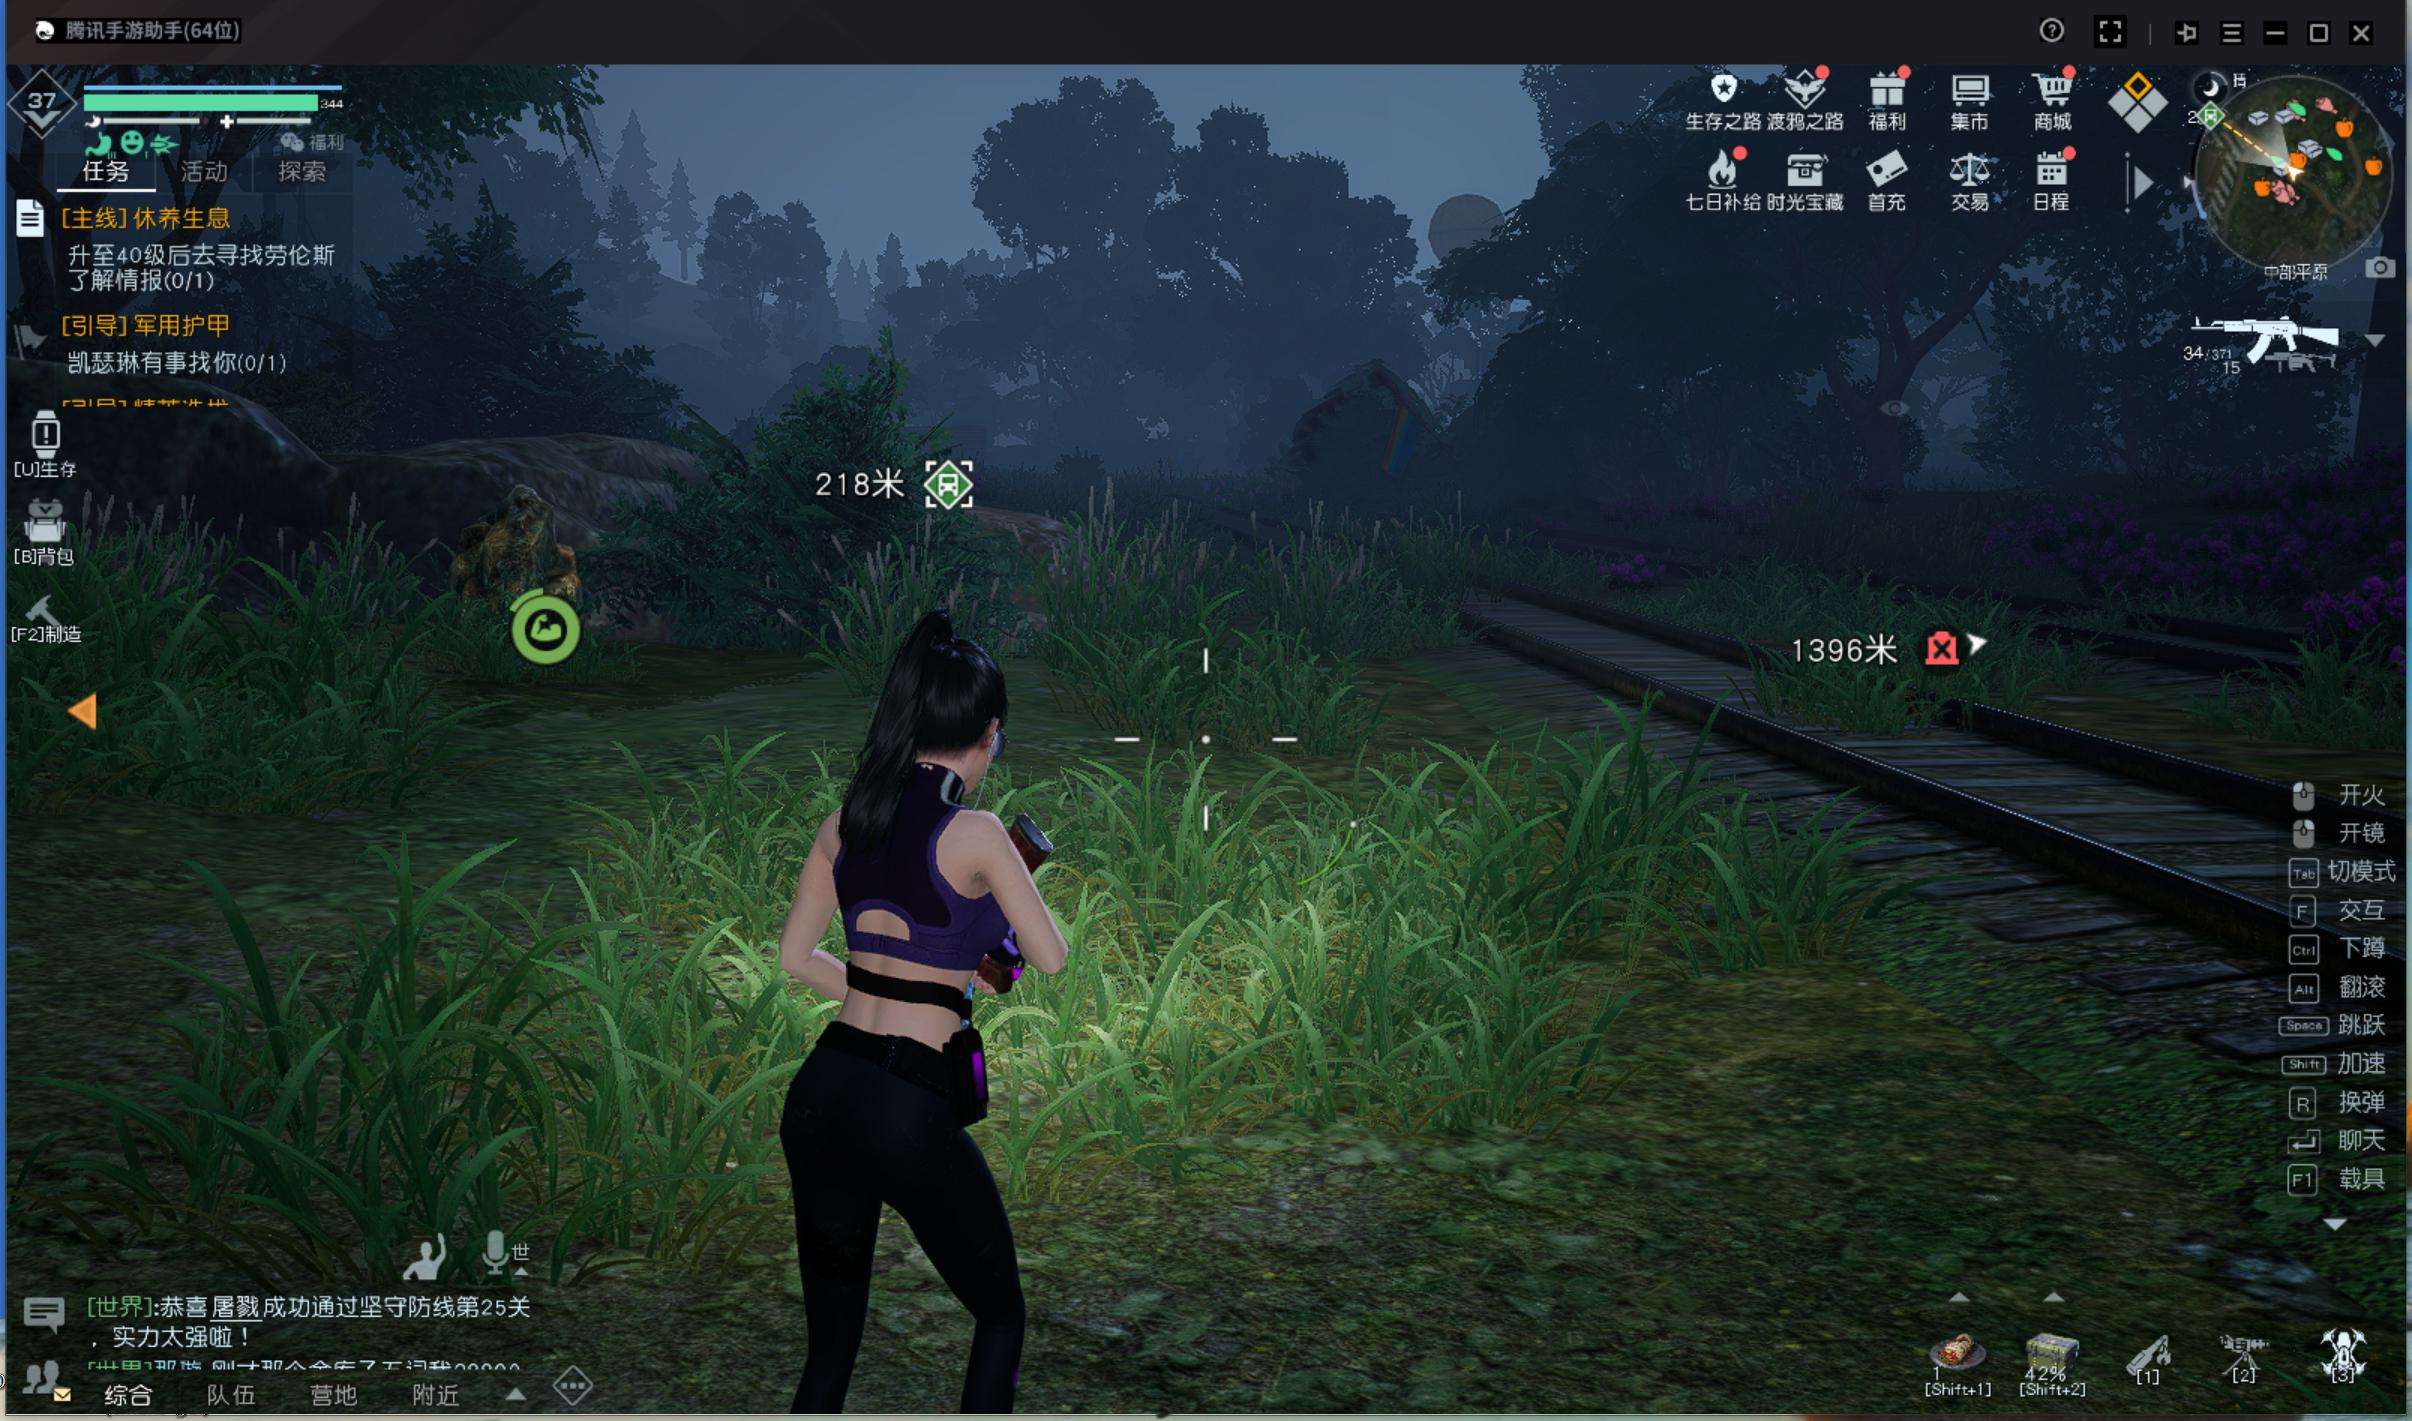stone: (448, 464, 655, 690)
